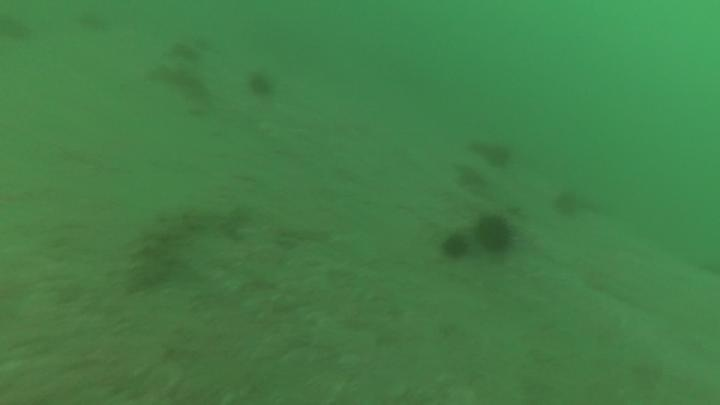echinus: (473, 212, 516, 257), (478, 138, 515, 171), (438, 230, 472, 263), (0, 11, 33, 45), (453, 162, 488, 194), (244, 68, 277, 100), (550, 188, 583, 220)
holothurian: (122, 205, 201, 296)
